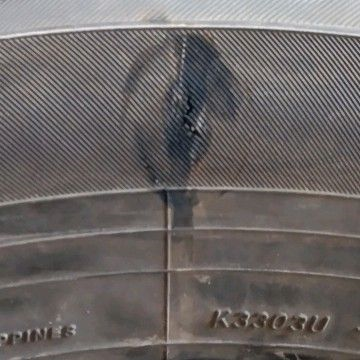cut: (179, 91, 209, 152)
